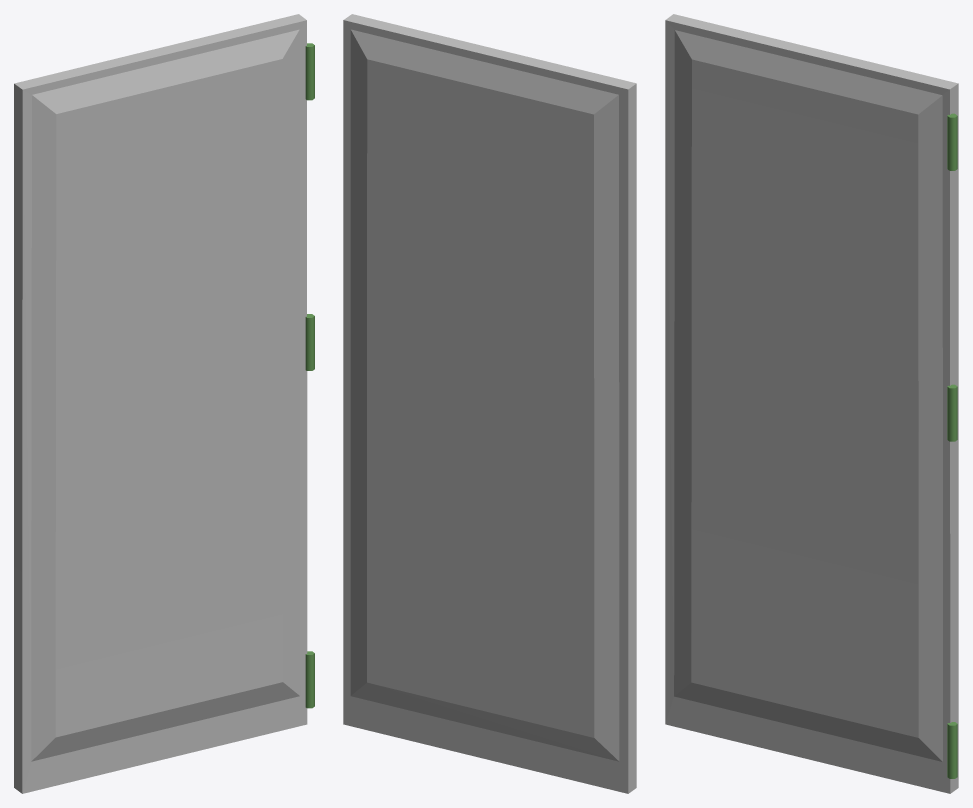
The model's file is SM_Door_Big_Left_A_01.FBX.
3 views of the same model, side by side, from view 1: azimuth 30°, elevation 25°; view 2: azimuth 150°, elevation 25°; view 3: azimuth 330°, elevation 25° (orthographic).
Parts seen in each view (by area): view 1: SM_Door_Big_Left_A_01; view 2: SM_Door_Big_Left_A_01; view 3: SM_Door_Big_Left_A_01.
Part boxes in pixels (x1,y1,x2,y2): SM_Door_Big_Left_A_01: (14, 14, 314, 793); SM_Door_Big_Left_A_01: (343, 14, 636, 793); SM_Door_Big_Left_A_01: (665, 14, 958, 793).
Bounding box in the file's own units: 365 × 35.38 × 844.
